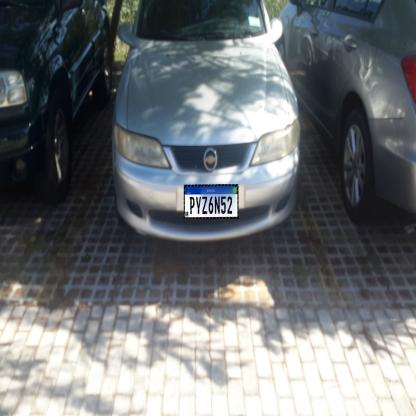PlacaM: (184, 184, 238, 219)
